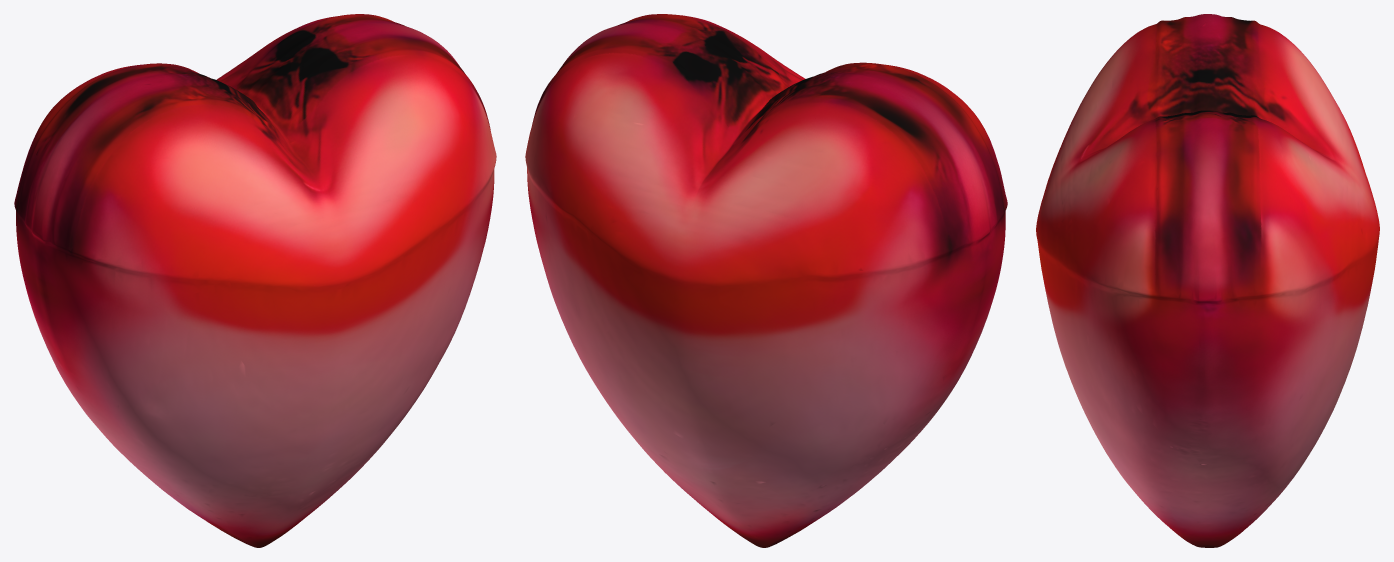
Rendered from love.glb.
3 renders of one model, left to right at view 1: azimuth 30°, elevation 25°; view 2: azimuth 150°, elevation 25°; view 3: azimuth 270°, elevation 25°, orthographic. The views are drawn at different scales.
Parts seen in each view (by area): view 1: texture_v100.001; view 2: texture_v100.001; view 3: texture_v100.001.
Part boxes in pixels (<box>): texture_v100.001: <box>14,14,496,547</box>; texture_v100.001: <box>525,14,1007,547</box>; texture_v100.001: <box>1036,14,1379,547</box>.
Size of the model in its own units: 0.9602 by 1.02 by 0.6779.
Materials: 1 (1 with a texture image).
